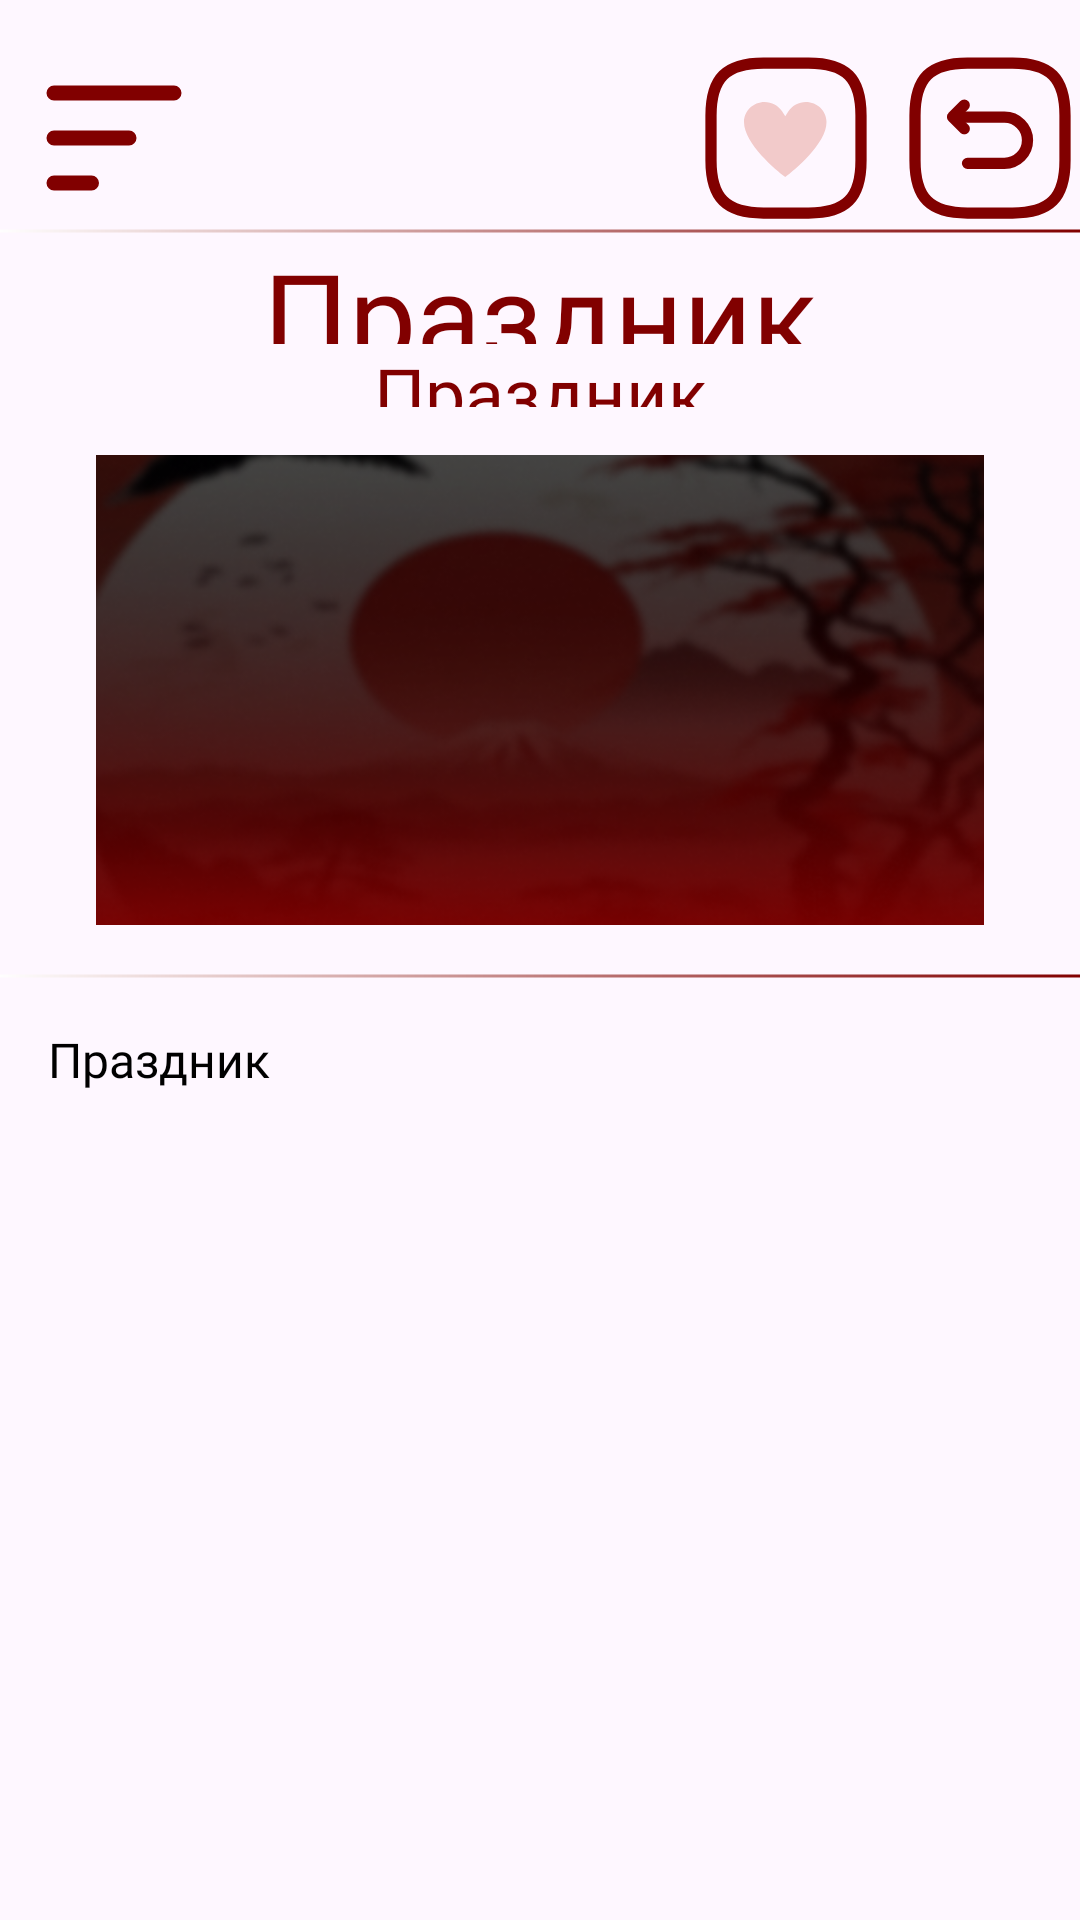

Point at icon controls on the screen. Image size 1080×1920, points as (x=x, y=y).
back: (x=990, y=138)
follow button: (x=786, y=138)
navdrawer: (x=114, y=138)
